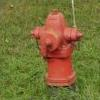a fire hydrant: (34, 8, 80, 88)
